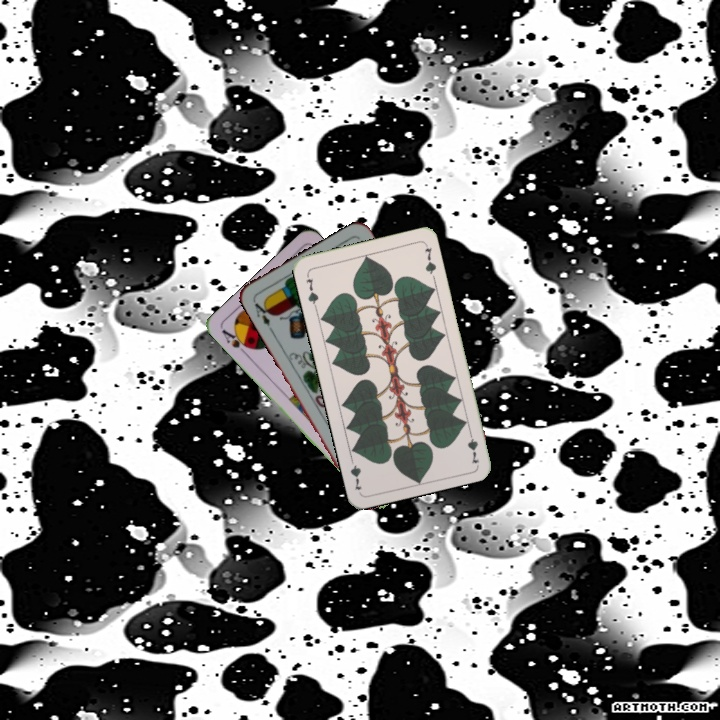EA: (249, 296, 275, 329)
G7: (463, 425, 482, 466), (302, 270, 321, 310)
SA: (217, 325, 254, 358)
